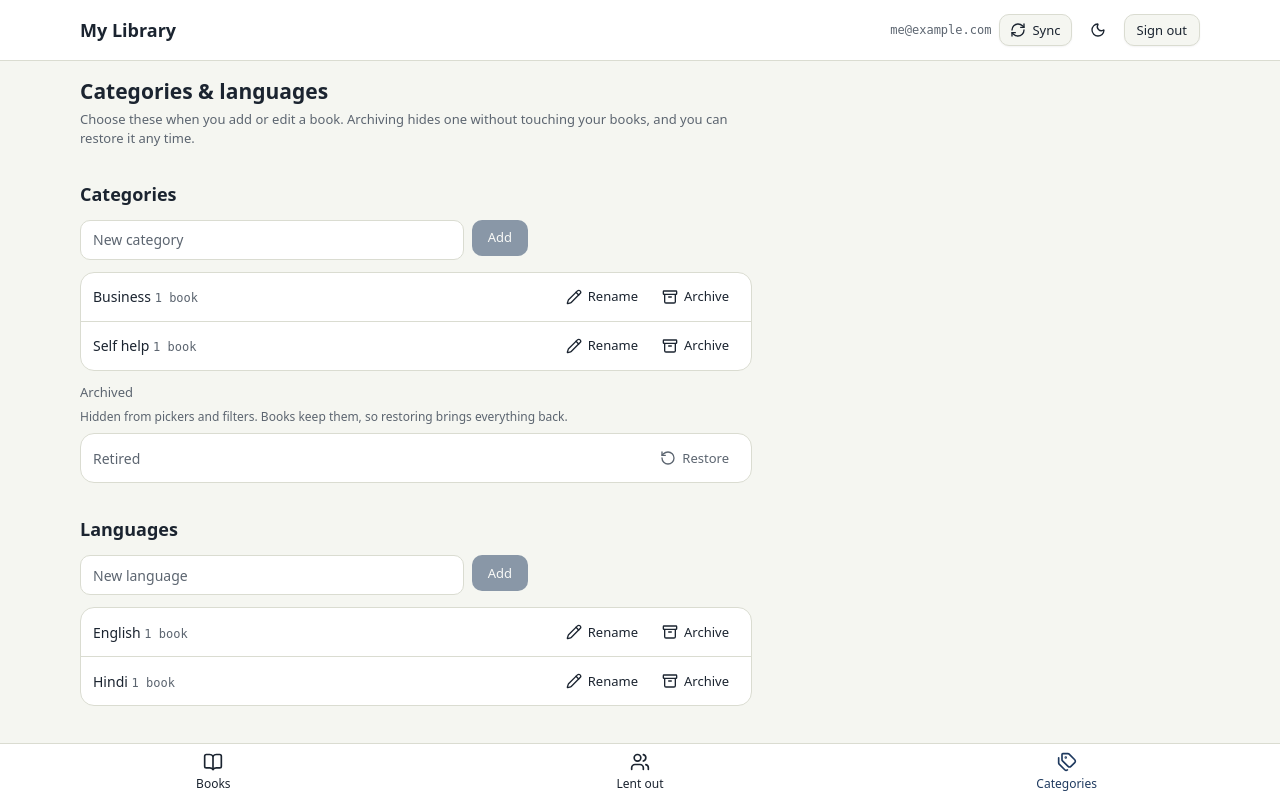
Test: Categories & languages page › renames a category everywhere: the list, the Sheet, and the books (in the store and on the Sheet)
Check: the list named "Active categories" is shown, box [80,272,752,370]
Click the button with aria-label "Rename Self help" at (602, 346), box [556,330,648,362]
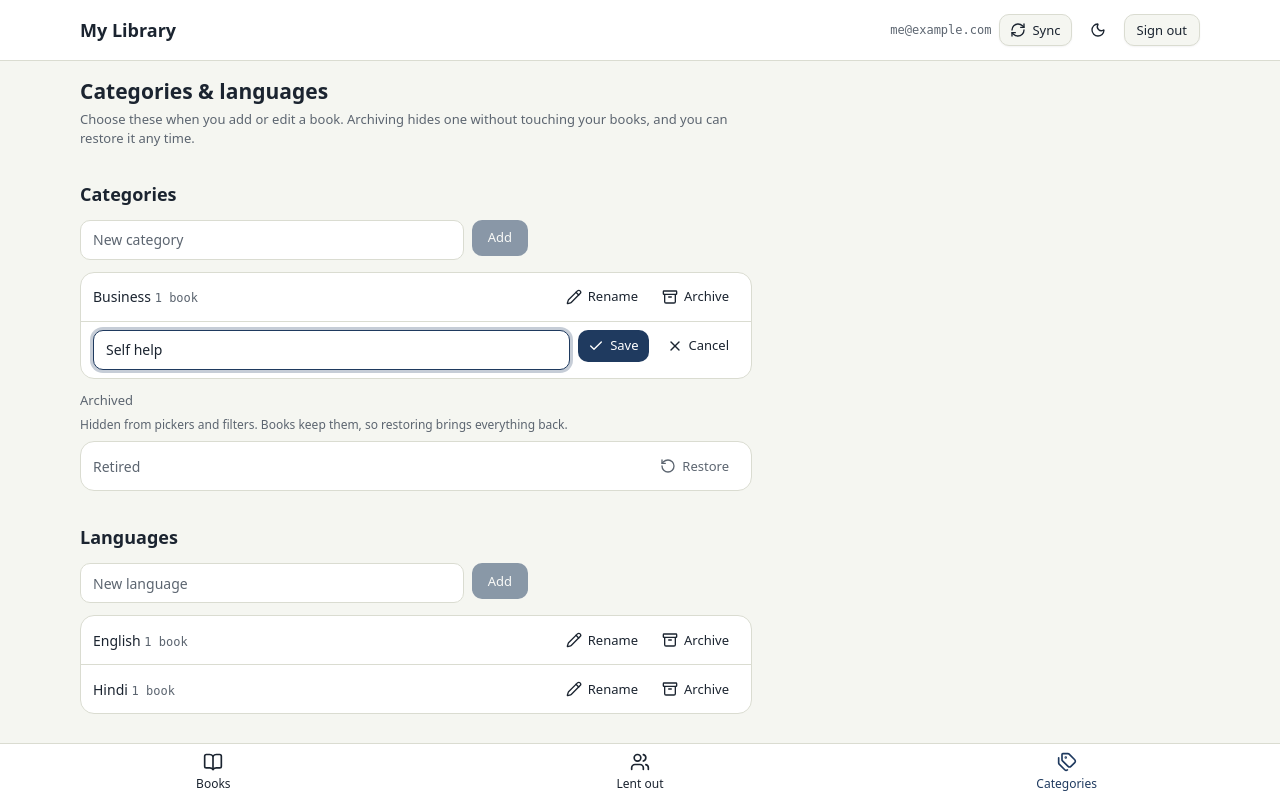
Replace the text in the field named "New name for Self help" with "Self-help" at (332, 350), box [93,330,570,370]
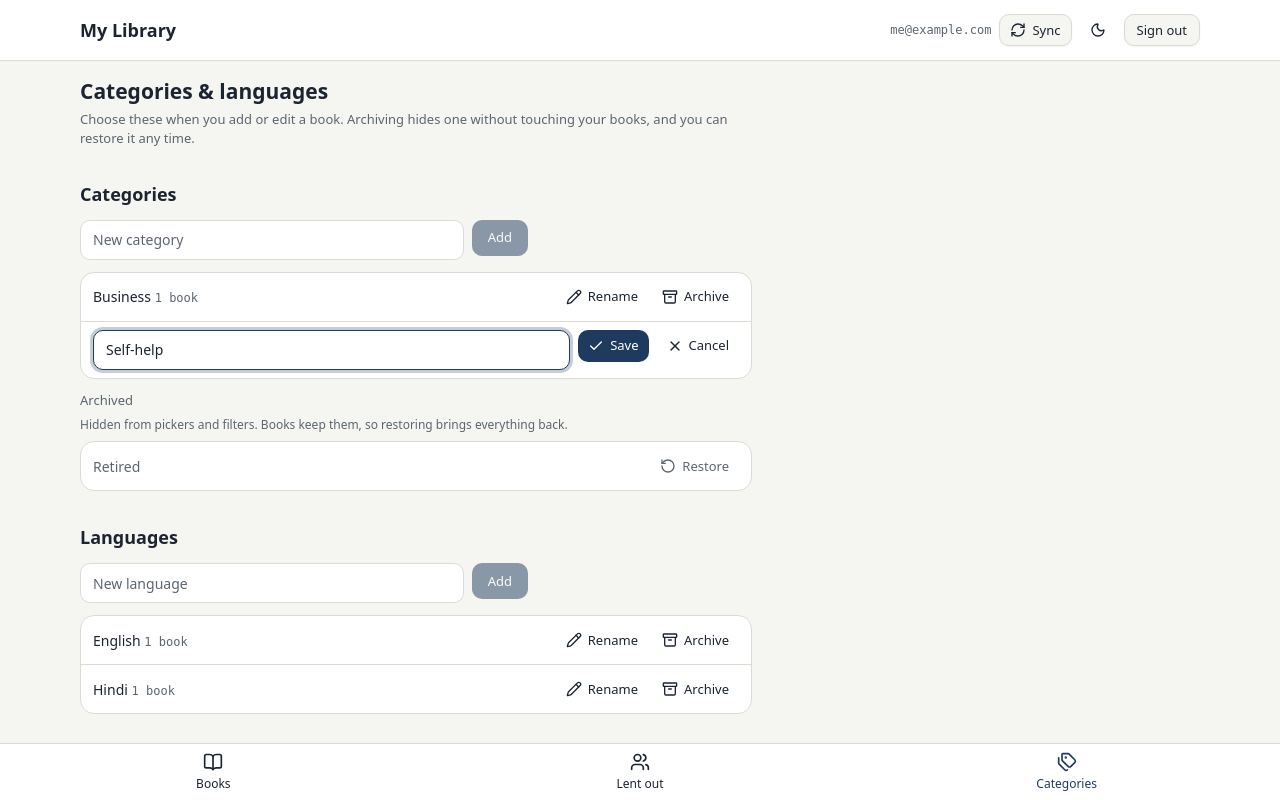
Click the button with aria-label "Save name for Self help" at (613, 346), box [578,330,648,362]
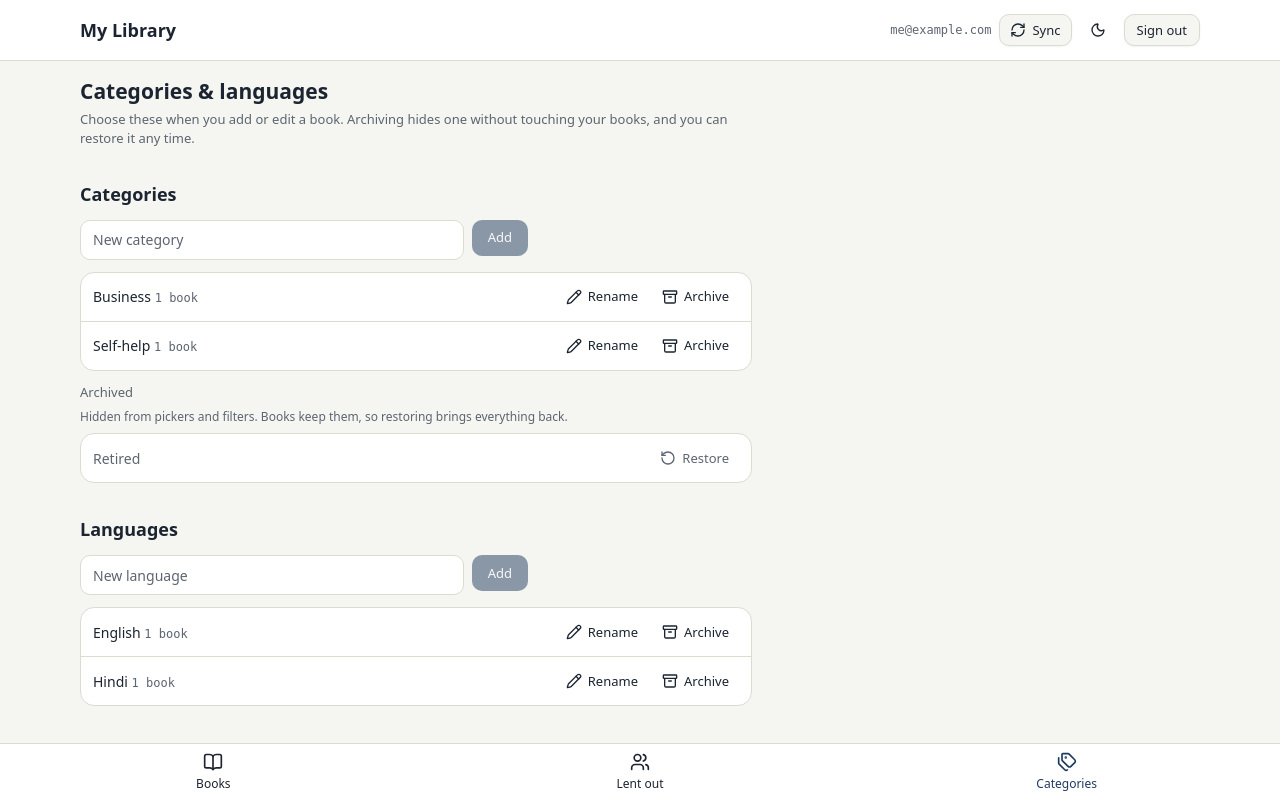
Check: the text "Self-help" is shown, box [93,336,150,355]
